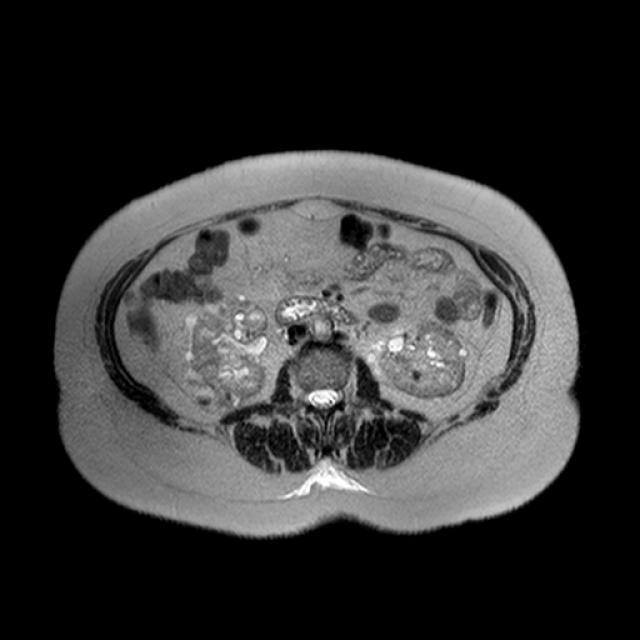sag: (181, 294, 271, 417)
sol: (368, 316, 467, 400)
